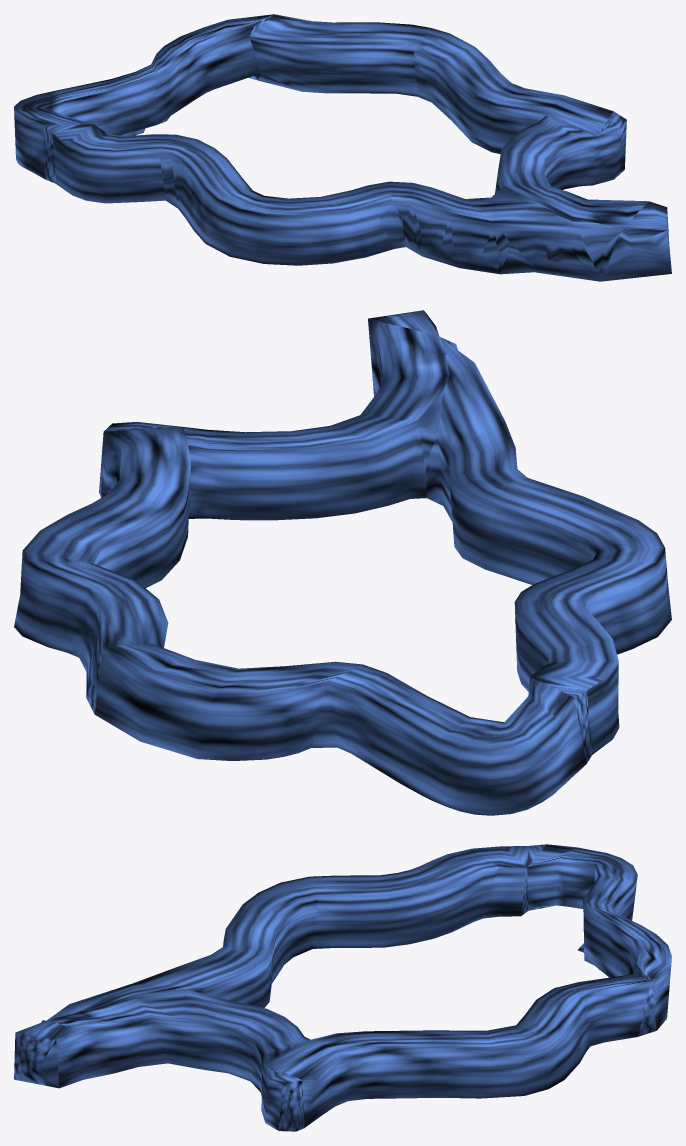
Rendered from Island2.fbx.
3 renders of one model, top to bottom at view 1: azimuth 30°, elevation 25°; view 2: azimuth 150°, elevation 25°; view 3: azimuth 270°, elevation 25°, orthographic. The views are drawn at different scales.
Parts seen in each view (by area): view 1: makevr_0006; view 2: makevr_0006; view 3: makevr_0006.
Part boxes in pixels (x1,y1,x2,y2): makevr_0006: (14,14,671,281); makevr_0006: (14,310,671,815); makevr_0006: (14,844,671,1131).
Bounding box in the file's own units: 2315 × 350 × 2783.
